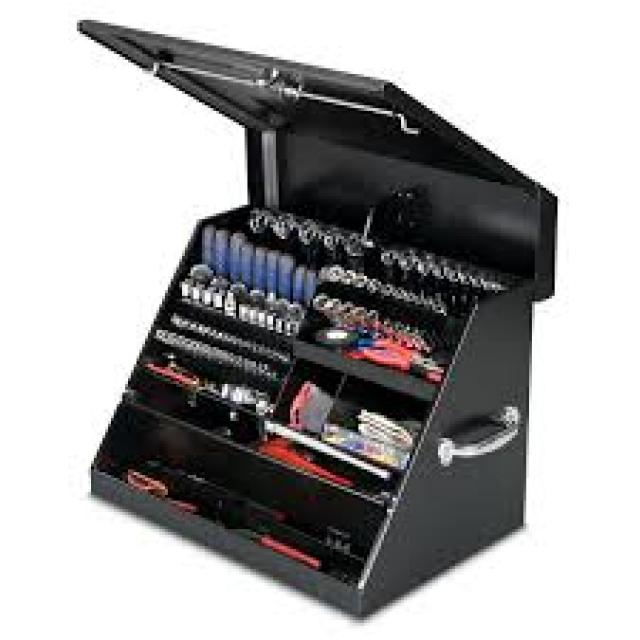tool_box: (77, 20, 560, 623)
